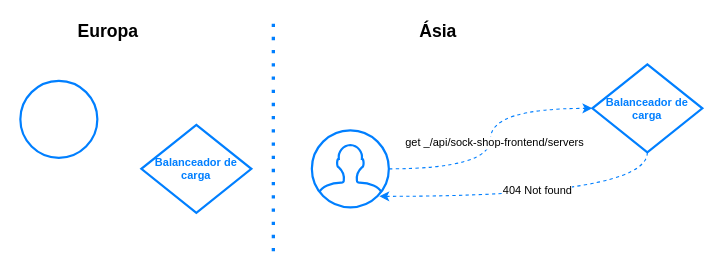
Image size: 722x273. Some labels were removed from this diagram. The shapes that lost their labels are listed below. From the top down, each one's box as (x1, y1, x2, y2) in pixels, then its label:
(19, 79, 98, 158): Sock-shop Frontend
(310, 129, 389, 208): Utilizador
